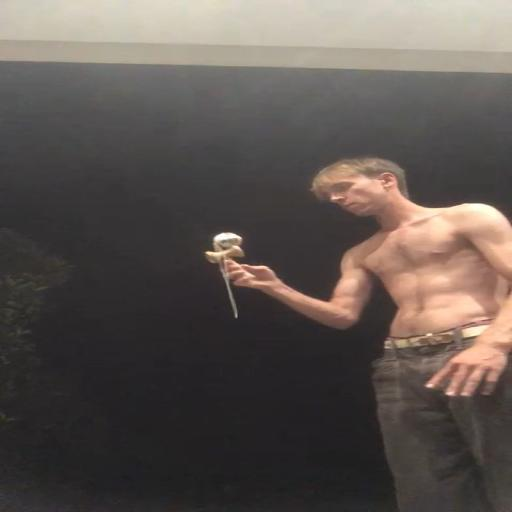kendama_ball: (213, 232, 243, 250)
